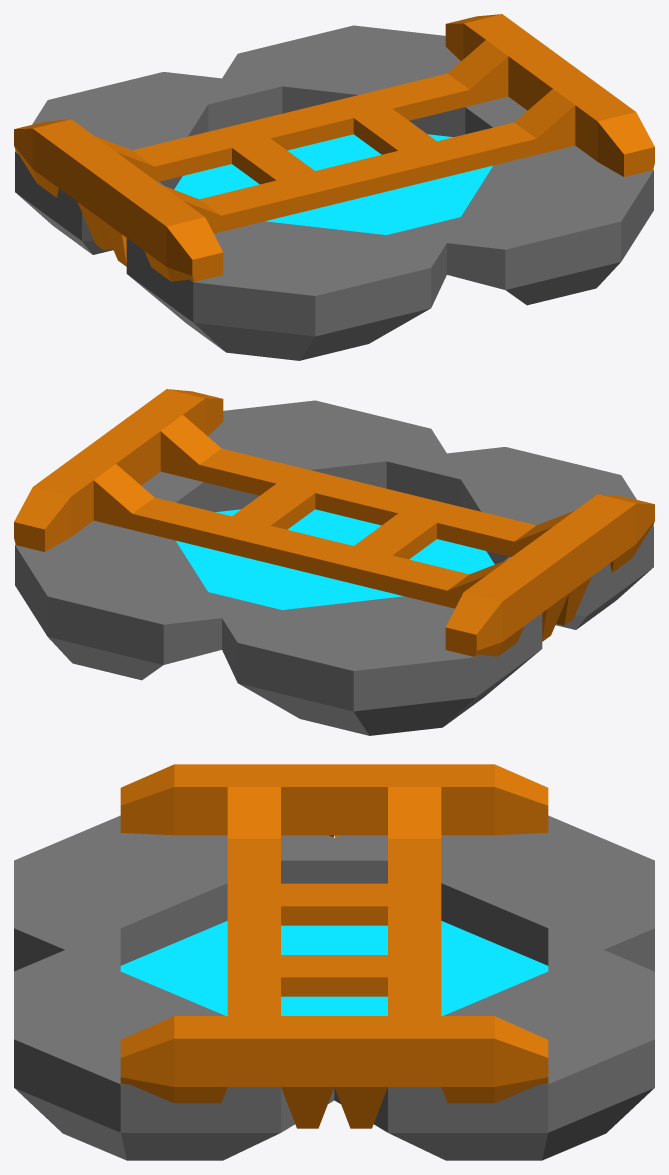
The model's file is Button.glb.
3 renders of one model, top to bottom at view 1: azimuth 30°, elevation 25°; view 2: azimuth 150°, elevation 25°; view 3: azimuth 270°, elevation 25°, orthographic. The views are drawn at different scales.
Visible parts, largest first — view 1: Frame0, Frame1, Screen; view 2: Frame0, Frame1, Screen; view 3: Frame0, Frame1, Screen.
Boxes of the visible parts, bbox=[...] form: Frame0: bbox=[15, 25, 653, 360]; Frame1: bbox=[14, 14, 654, 281]; Screen: bbox=[174, 134, 492, 234]; Frame0: bbox=[15, 400, 653, 735]; Frame1: bbox=[14, 389, 654, 656]; Screen: bbox=[176, 509, 494, 609]; Frame0: bbox=[14, 815, 654, 1160]; Frame1: bbox=[120, 764, 548, 1128]; Screen: bbox=[120, 921, 548, 1015].
Size of what is drawn, in the model's own units: 1.22 by 0.3 by 1.2.
